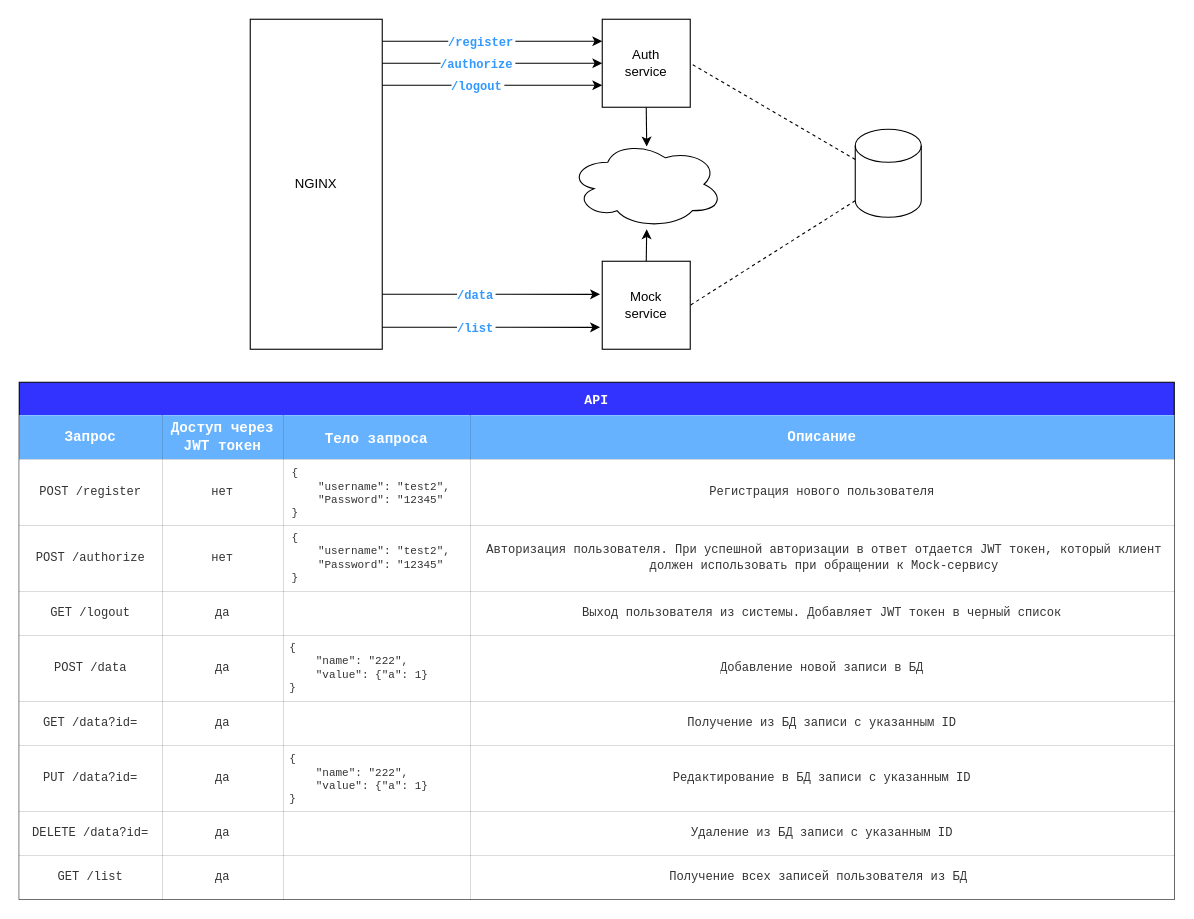
Some shapes in this 1194 by 919 pixel diagram are drawn without their labels. The centre of each missing label's shape, as x and y in pixels:
DB: pixel 887 172
Redis JWT BlackList: pixel 645 183
